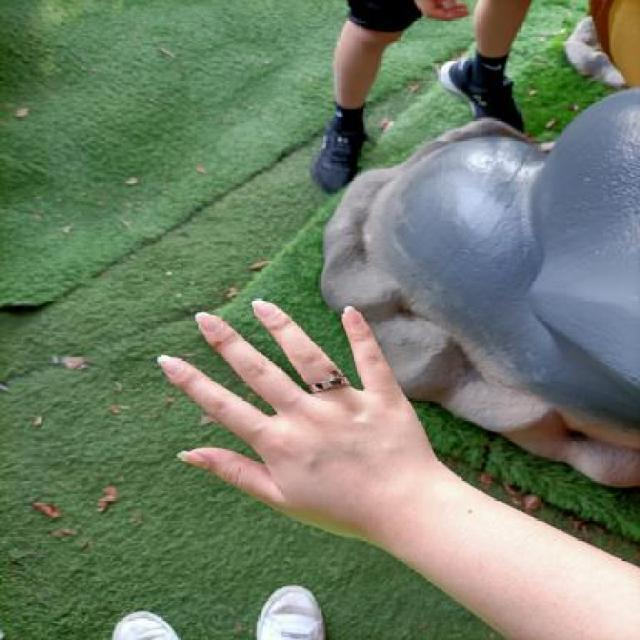bare_hand: (139, 285, 476, 564)
